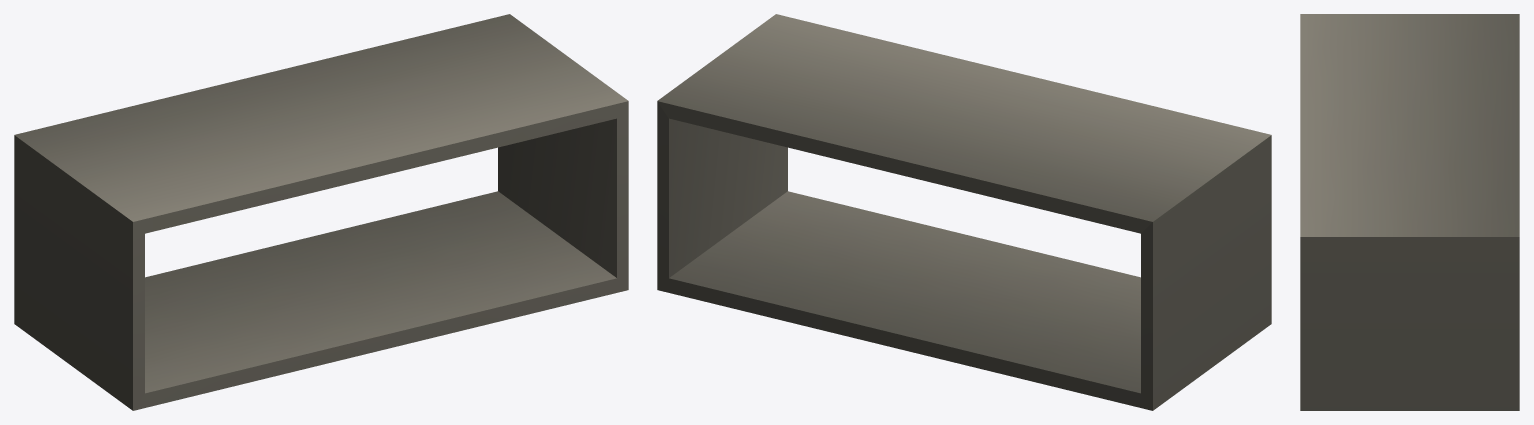
Rendered from TSP_Shelves_03B.fbx.
3 renders of one model, left to right at view 1: azimuth 30°, elevation 25°; view 2: azimuth 150°, elevation 25°; view 3: azimuth 270°, elevation 25°, orthographic. The views are drawn at different scales.
Visible parts, largest first — view 1: TSP_Shelves_03B; view 2: TSP_Shelves_03B; view 3: TSP_Shelves_03B.
Part boxes in pixels (bbox=[...]): TSP_Shelves_03B: bbox=[14, 14, 628, 410]; TSP_Shelves_03B: bbox=[657, 14, 1271, 410]; TSP_Shelves_03B: bbox=[1300, 14, 1519, 410].
Bounding box in the file's own units: 1.19 × 0.4335 × 0.4944.
